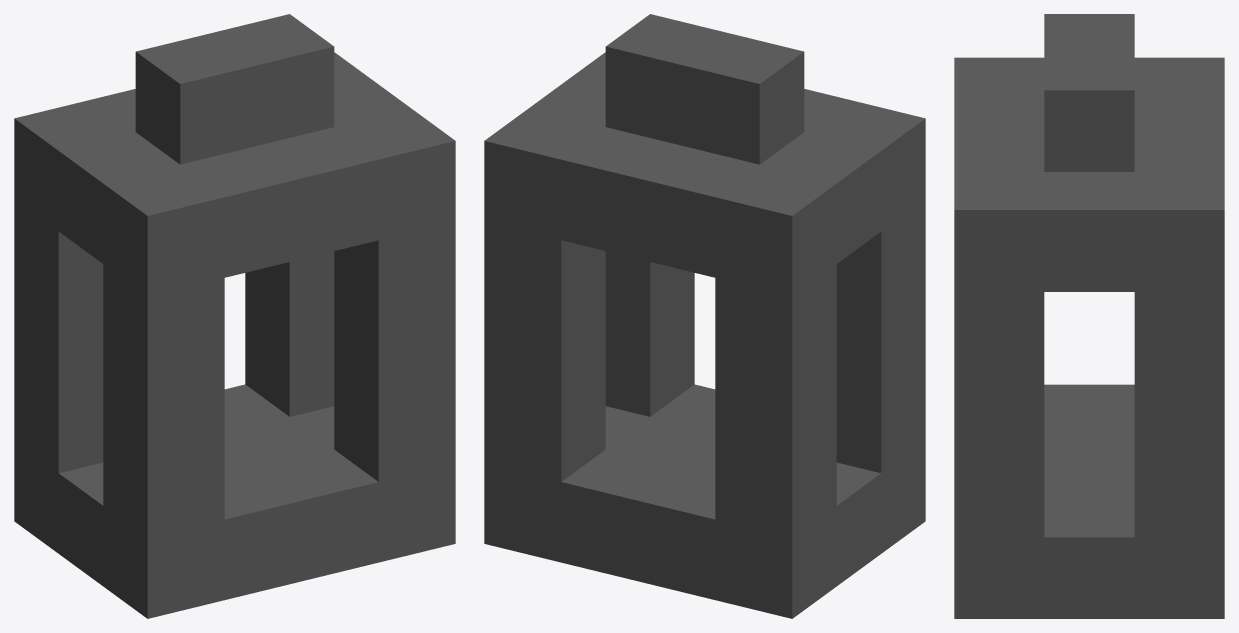
File: cupboard-lamp.dae
3 views of the same model, side by side, from view 1: azimuth 30°, elevation 25°; view 2: azimuth 150°, elevation 25°; view 3: azimuth 270°, elevation 25° (orthographic).
Visible parts, largest first — view 1: cupboard-lamp.merged; view 2: cupboard-lamp.merged; view 3: cupboard-lamp.merged.
Boxes of the visible parts, <box> form: cupboard-lamp.merged: <box>14,14,455,618</box>; cupboard-lamp.merged: <box>484,14,925,618</box>; cupboard-lamp.merged: <box>954,14,1224,618</box>.
Size of the model in its own units: 0.4 by 0.3 by 0.6.
1 material, 1 textured.
